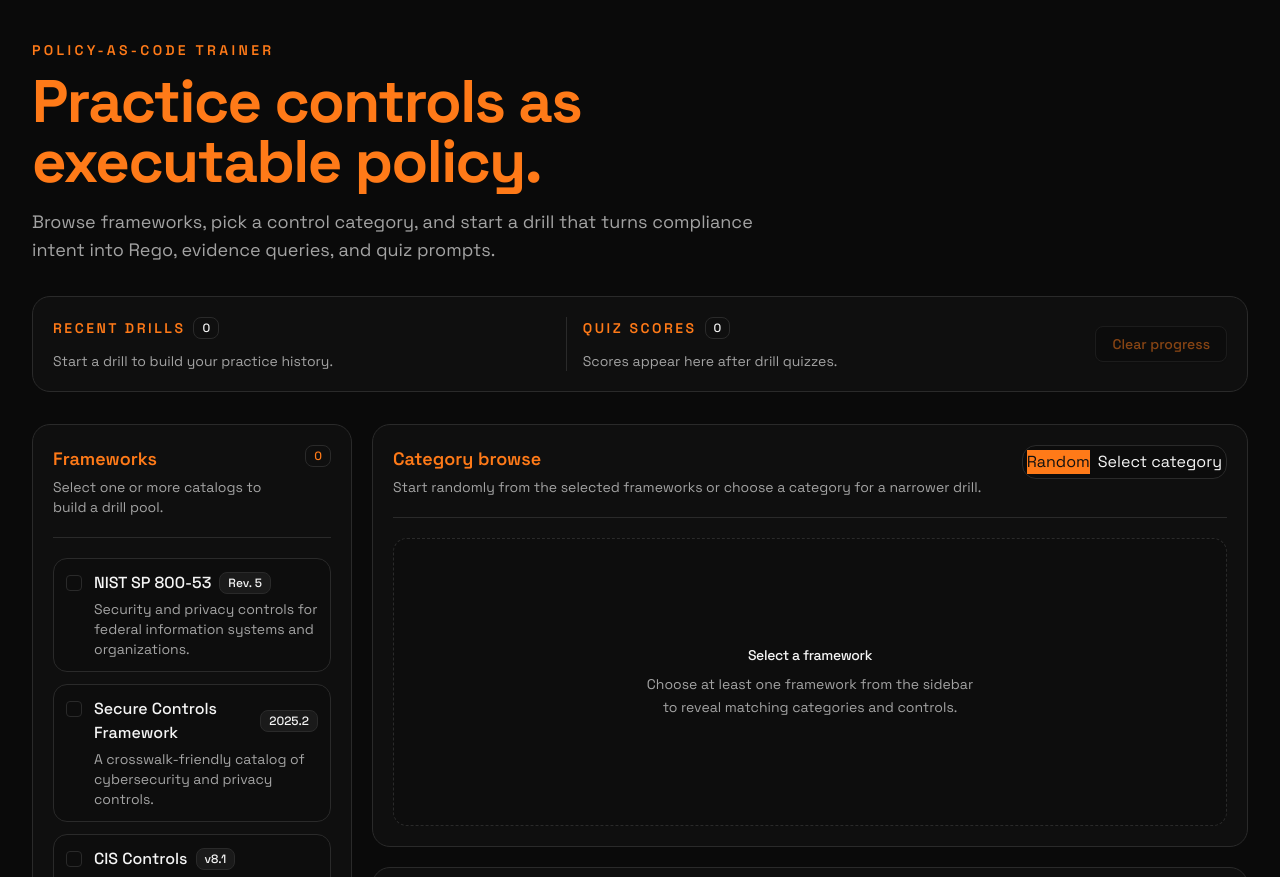
CatalogPage › enables SCF configuration management once a primary control exists
Click the checkbox named "secure controls framework". click: {"x": 74, "y": 709}
box: [66,701,82,717]
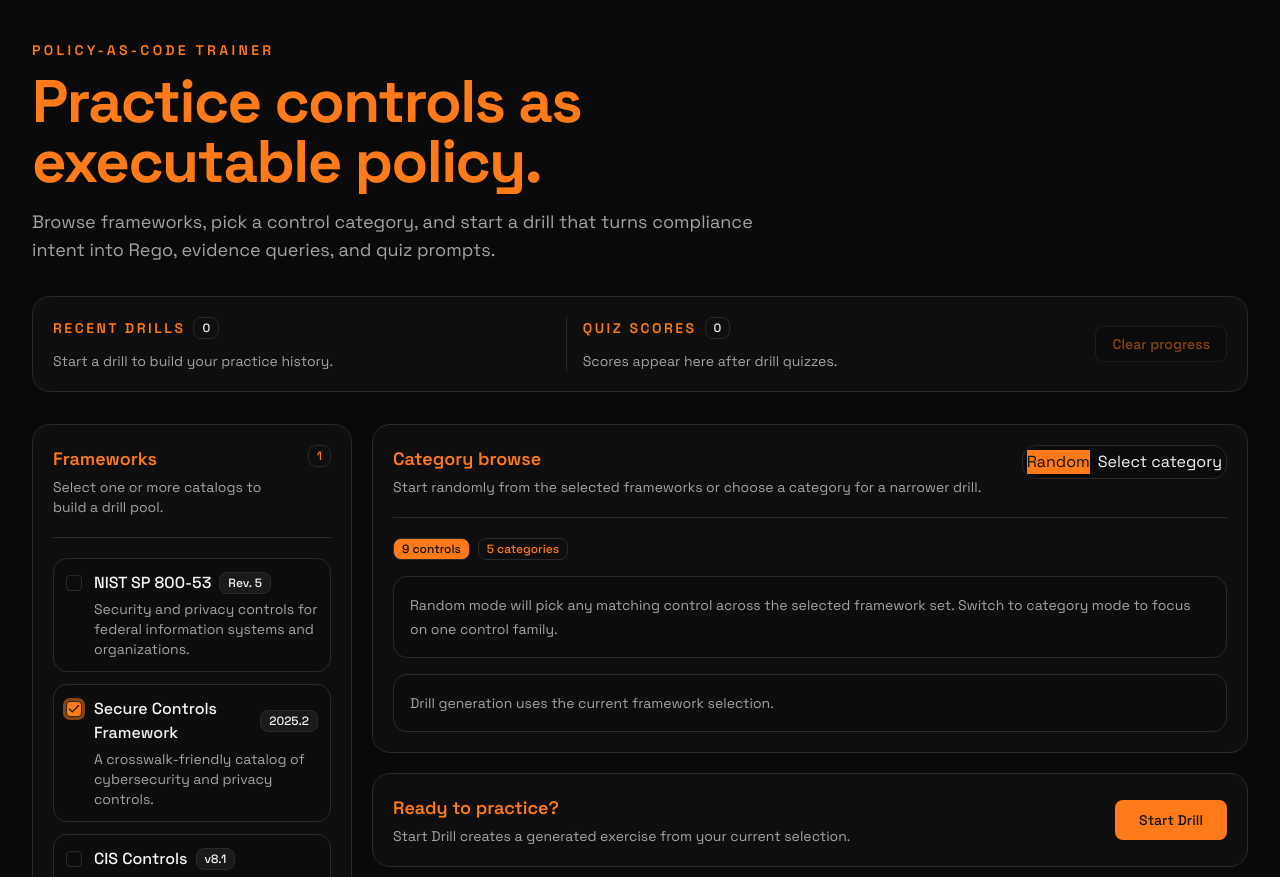
Click the button "Select category". click: {"x": 1160, "y": 462}
box: [1098,450,1222,474]
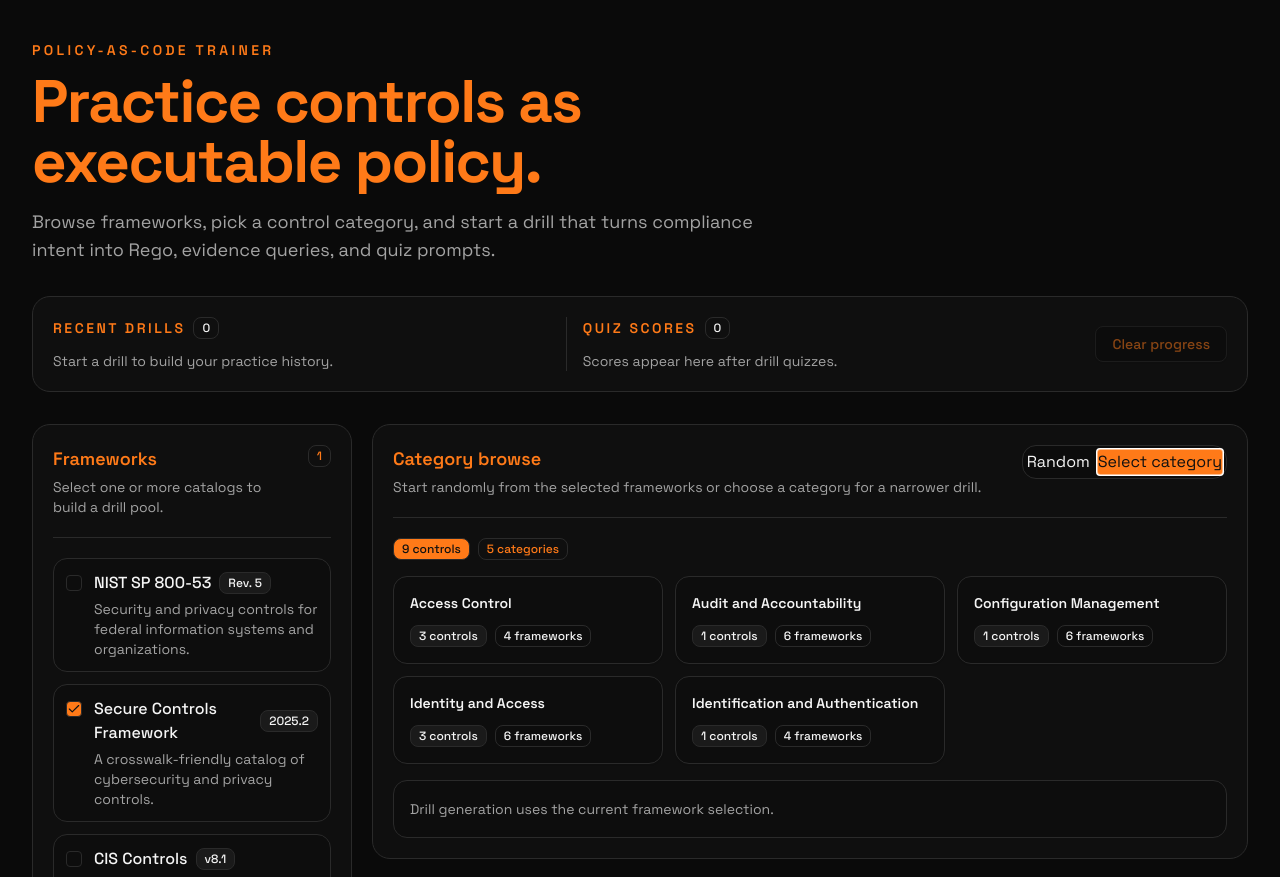
Result: the button "Configuration Management 1 controls 6 frameworks" is enabled at [957,576,1227,664]
